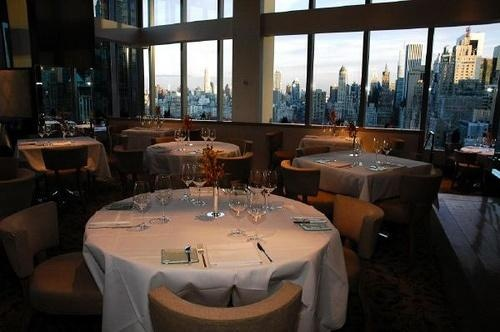chair: (4, 200, 104, 323), (150, 284, 311, 332), (332, 194, 386, 300), (381, 173, 442, 250), (279, 158, 338, 209), (43, 145, 92, 182), (452, 149, 489, 195), (1, 166, 38, 209), (216, 151, 257, 182), (114, 146, 146, 181), (268, 127, 295, 166), (387, 136, 408, 156), (181, 128, 203, 140), (246, 138, 256, 151)
diningtable: (82, 186, 349, 331), (294, 147, 436, 201), (14, 133, 113, 179), (146, 140, 244, 175), (302, 133, 363, 151), (122, 125, 174, 146)
